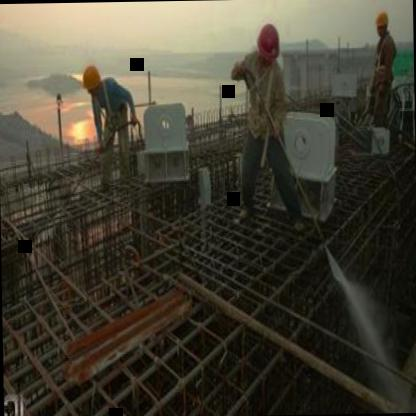helmet: (255, 19, 281, 66), (78, 60, 106, 102), (372, 8, 392, 38)
